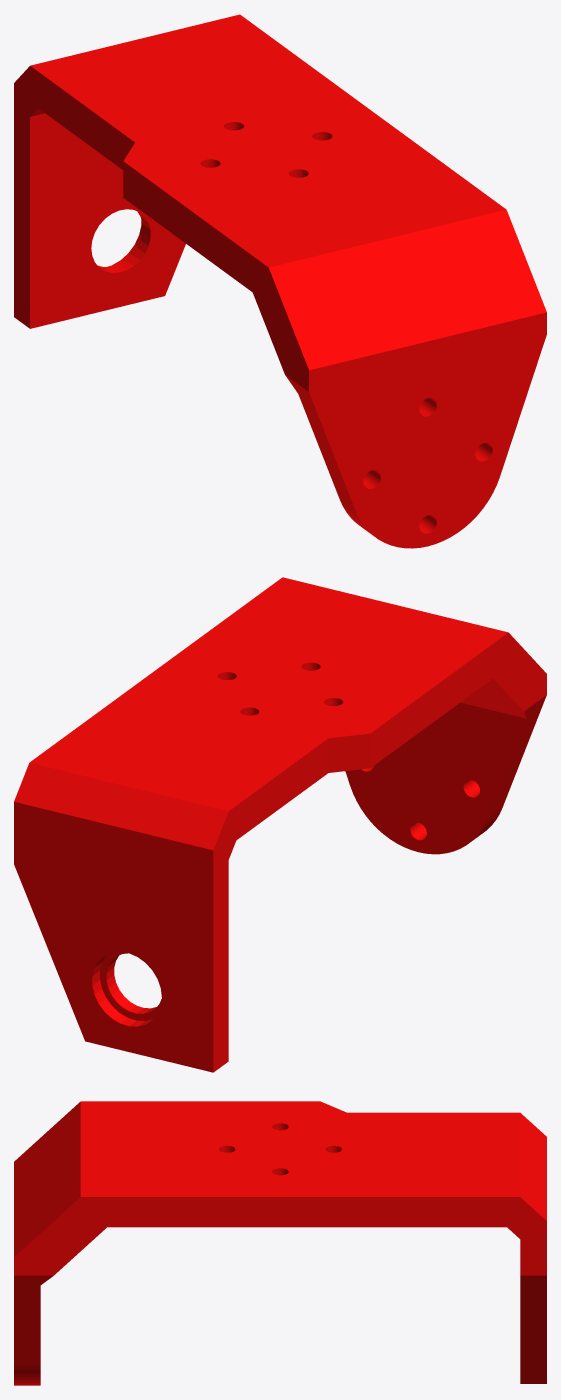
Rendered from Left_leg_bracket.dae.
The picture shows the model from 3 angles, top to bottom: view 1: azimuth 30°, elevation 25°; view 2: azimuth 150°, elevation 25°; view 3: azimuth 270°, elevation 25°; orthographic projection. The views are drawn at different scales.
Parts seen in each view (by area): view 1: Leg_Bracket_Left; view 2: Leg_Bracket_Left; view 3: Leg_Bracket_Left.
Boxes of the visible parts, x1,y1,x2,y2 form: Leg_Bracket_Left: (14, 14, 546, 548); Leg_Bracket_Left: (14, 577, 546, 1072); Leg_Bracket_Left: (14, 1101, 546, 1385).
Bounding box in the file's own units: 0.034 × 0.08 × 0.038.
